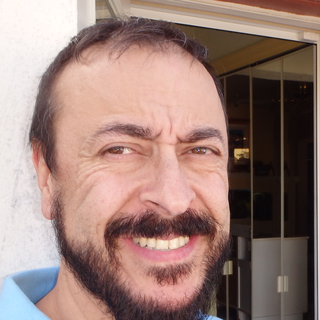eye: (177, 139, 225, 166), (96, 142, 145, 161)
